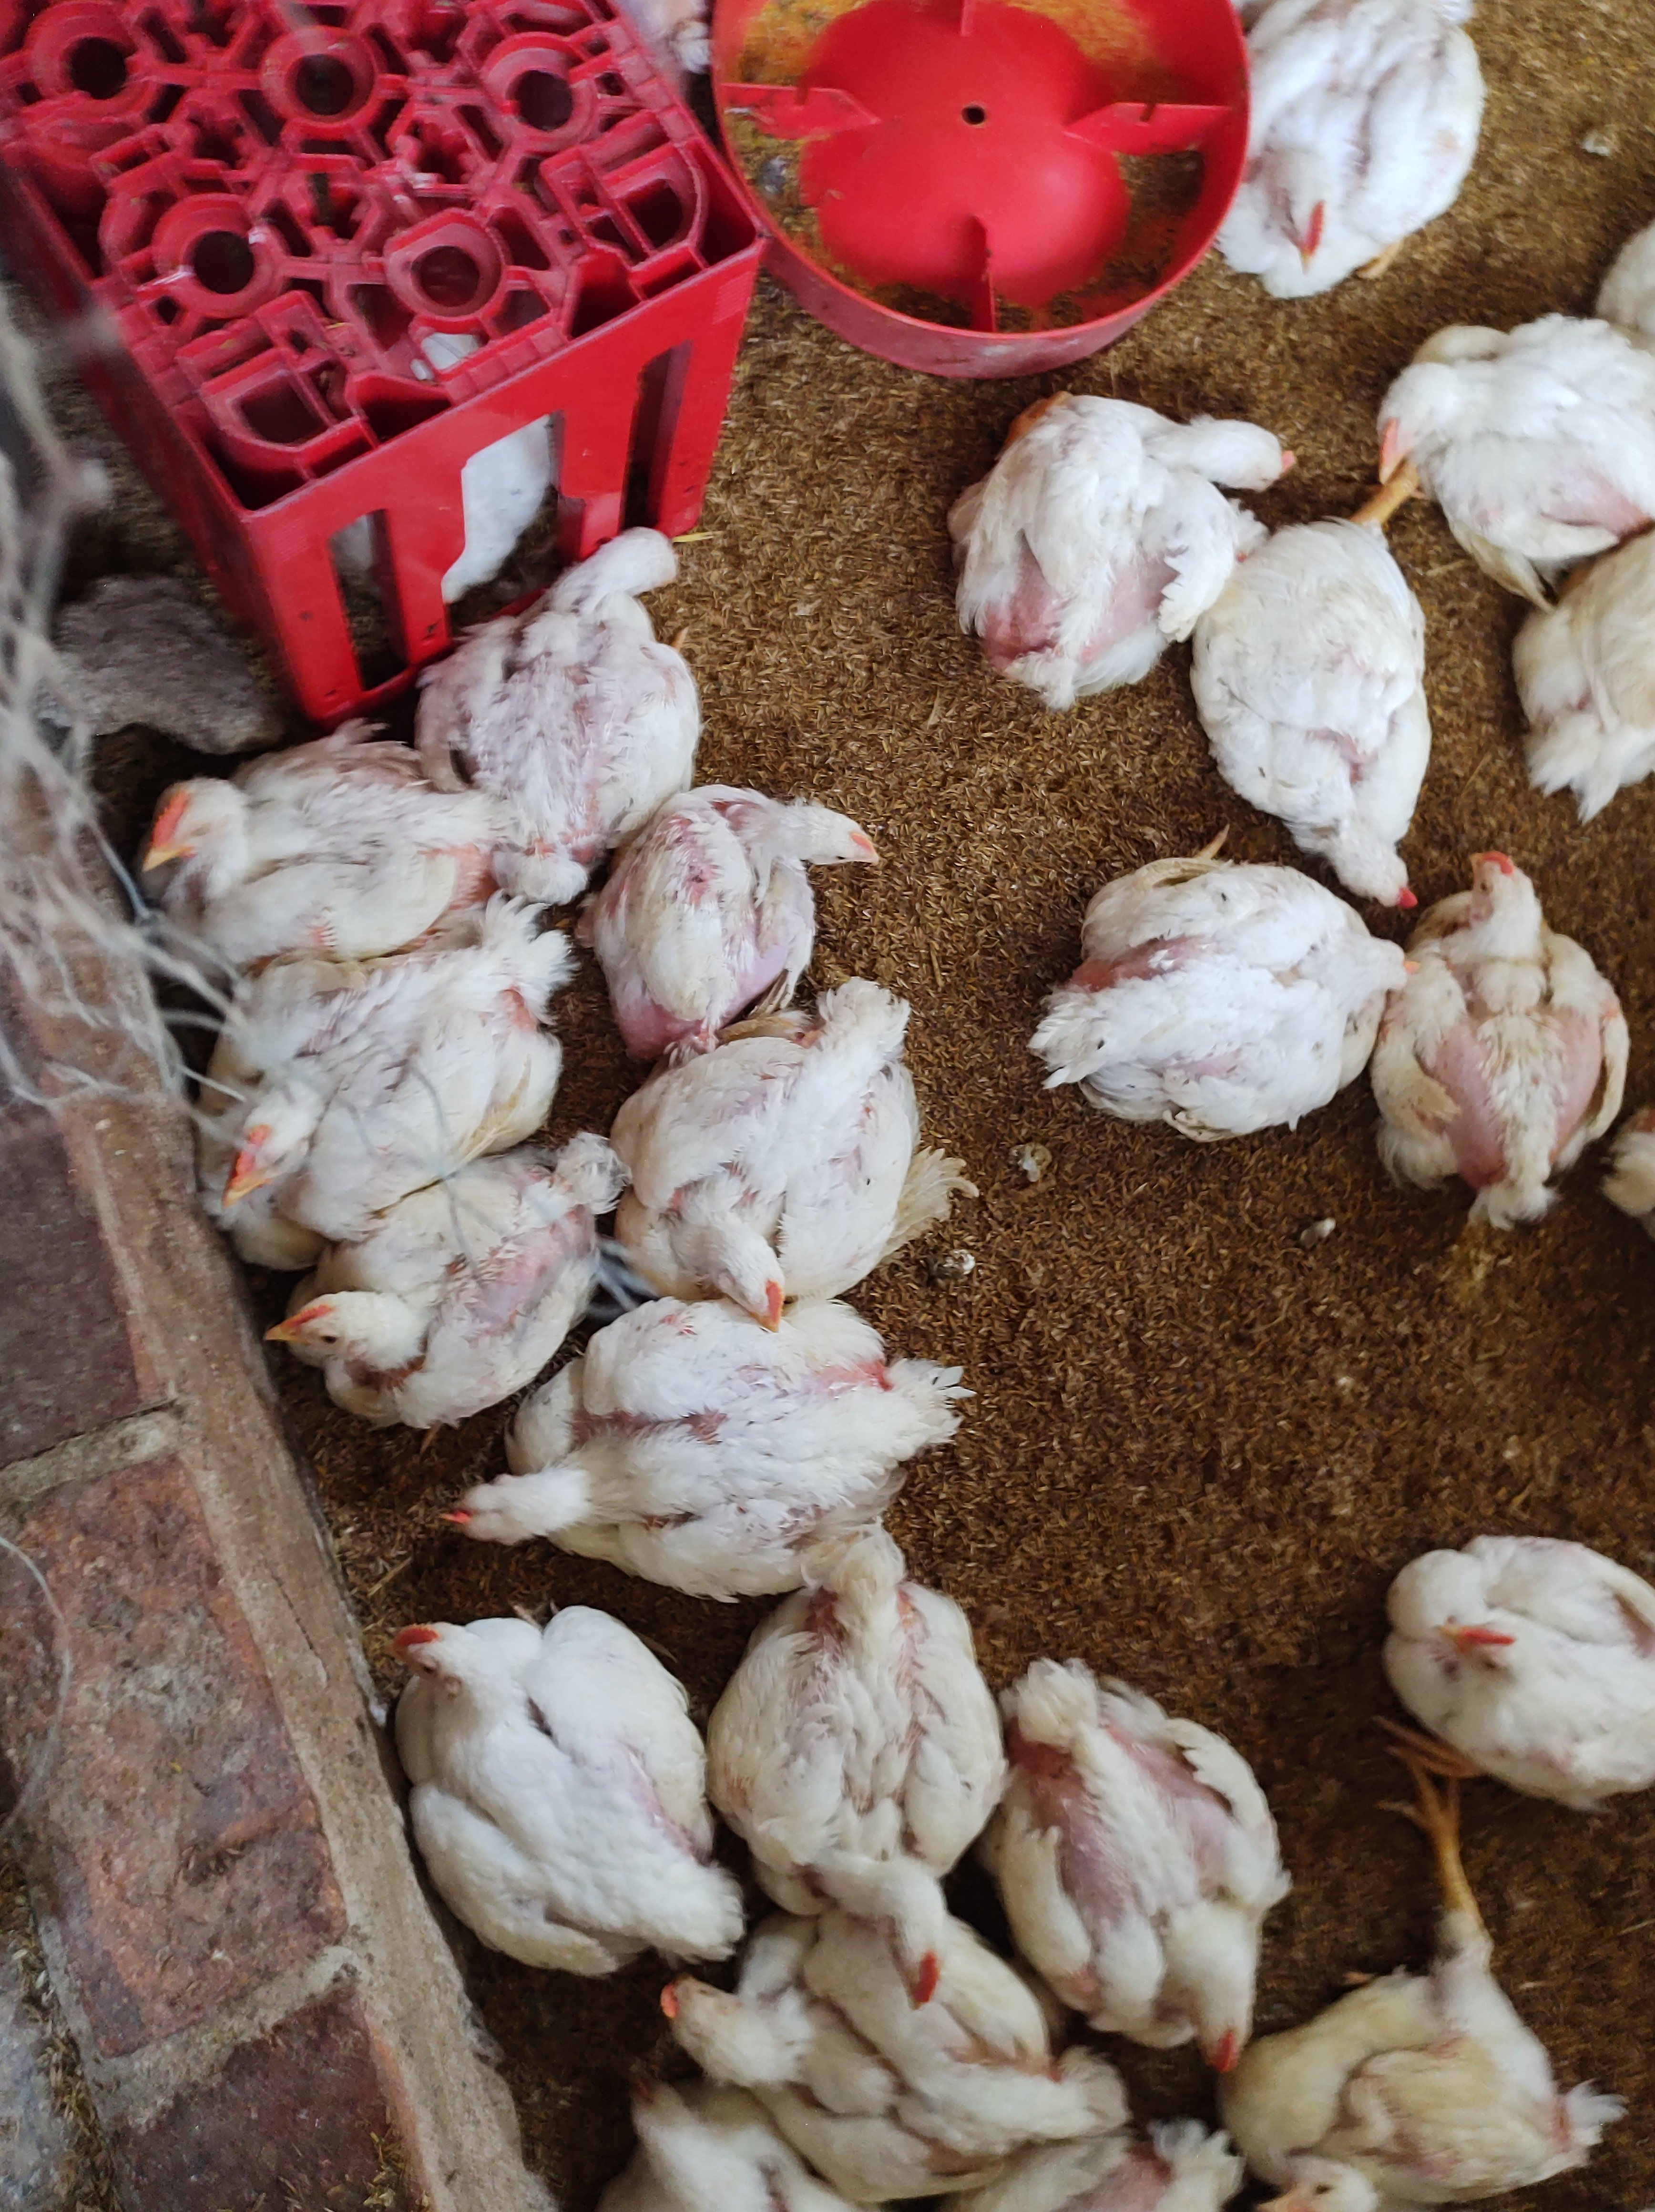Pollos: (464, 1236, 1066, 1591), (372, 1572, 765, 1989), (993, 1591, 1299, 2066), (183, 892, 589, 1223), (760, 1532, 1026, 2003), (614, 1009, 987, 1329), (1337, 849, 1643, 1228), (934, 374, 1313, 680), (1036, 824, 1366, 1174), (445, 520, 749, 873), (1186, 0, 1559, 282), (1366, 1450, 1655, 1814), (1196, 490, 1434, 911), (259, 1179, 605, 1450), (1372, 276, 1655, 607), (575, 786, 934, 1009), (104, 732, 478, 936), (1288, 2003, 1638, 2203), (1507, 539, 1655, 835), (654, 1930, 852, 2149)
